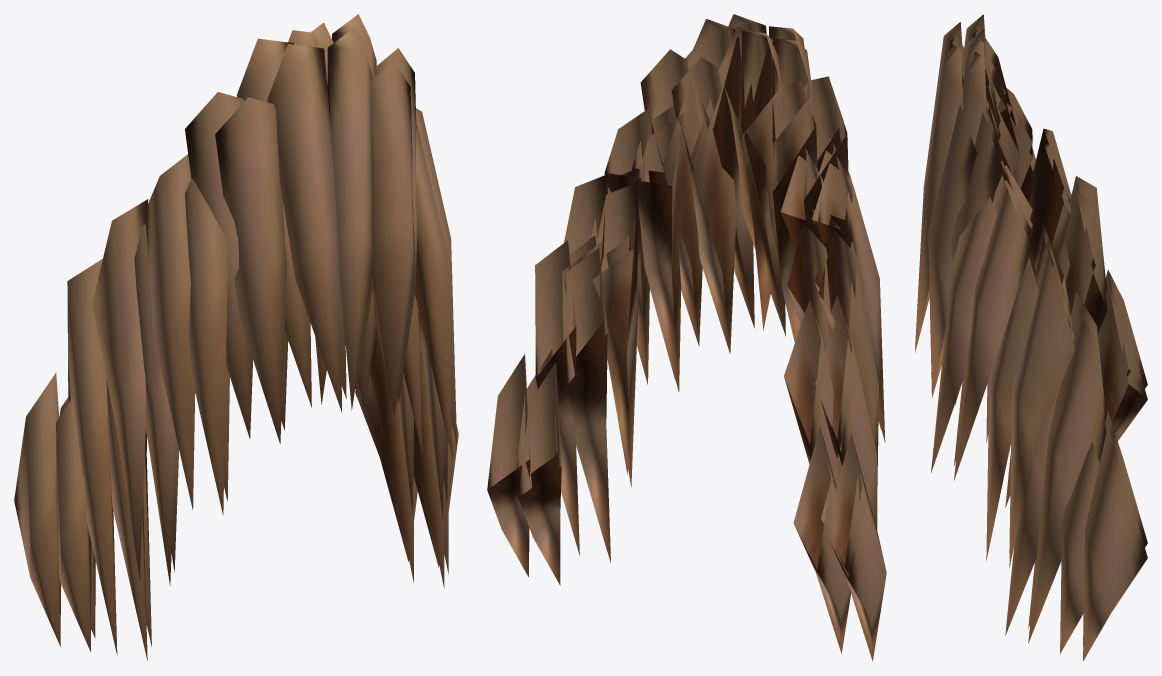
The model's file is Effect_4011skill_B.fbx.
3 views of the same model, side by side, from view 1: azimuth 30°, elevation 25°; view 2: azimuth 150°, elevation 25°; view 3: azimuth 270°, elevation 25° (orthographic). The views are drawn at different scales.
Parts seen in each view (by area): view 1: Dummy002 (×3); view 2: Dummy002 (×3); view 3: Dummy002 (×3).
Boxes of the visible parts, <box> form: Dummy002 (×3): <box>14,14,458,660</box>; Dummy002 (×3): <box>487,14,886,661</box>; Dummy002 (×3): <box>915,14,1147,661</box>.
Size of the model in its own units: 37.5 by 51.64 by 20.04.
1 material, 1 textured.
